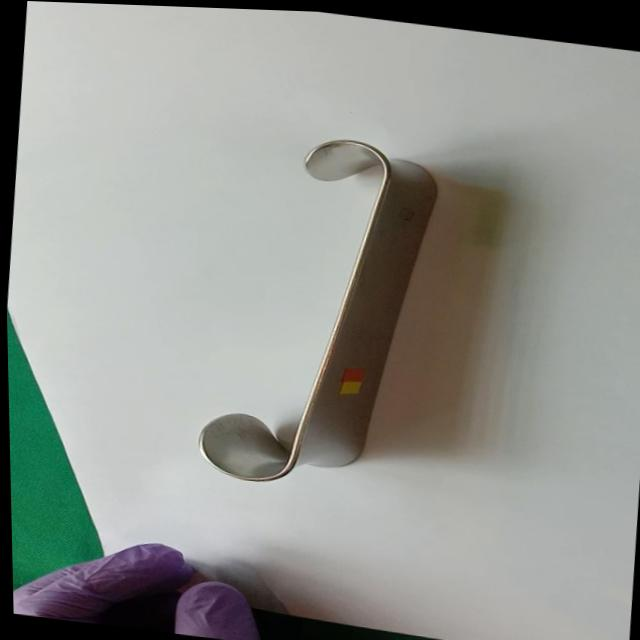CheekRetractor: (184, 117, 448, 503)
